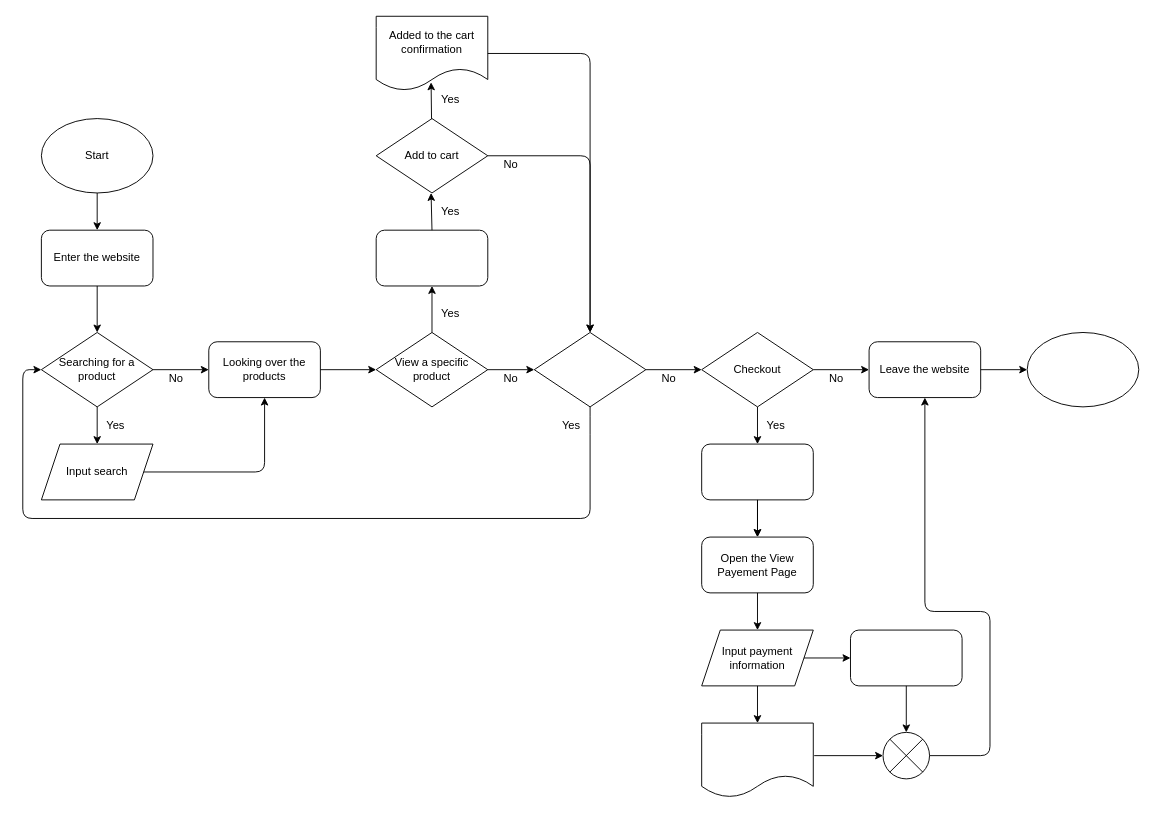
Some shapes in this 1155 by 814 pixel diagram are drawn without their labels. Each missing label, with the box of its shape:
Continue shopping: (533, 332, 646, 407)
End: (1026, 332, 1139, 407)
Open the order confirmation Page: (850, 629, 962, 686)
Open the product webpage: (375, 229, 488, 286)
Open the View Cart Page: (701, 443, 813, 500)
Recive order confirmation email: (701, 722, 813, 797)
